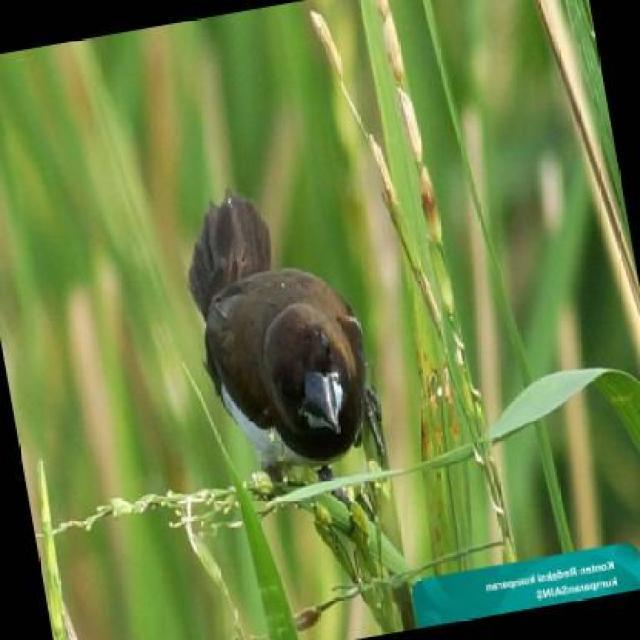Bird: (185, 181, 375, 482)
